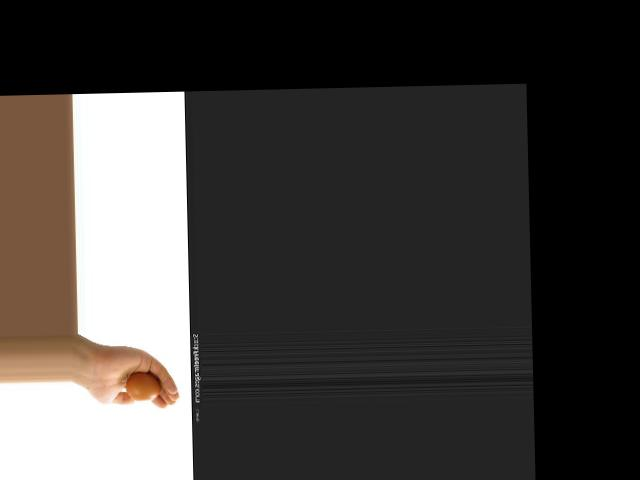egg: (125, 372, 163, 401)
